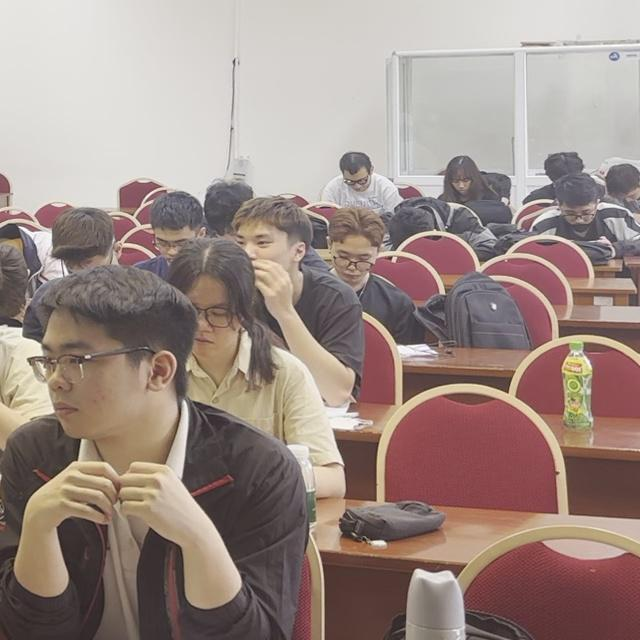Looking away: (328, 228, 378, 283), (346, 161, 373, 193), (449, 172, 473, 193)
Looking forward: (44, 301, 142, 437)
Phone use: (532, 177, 640, 257)
